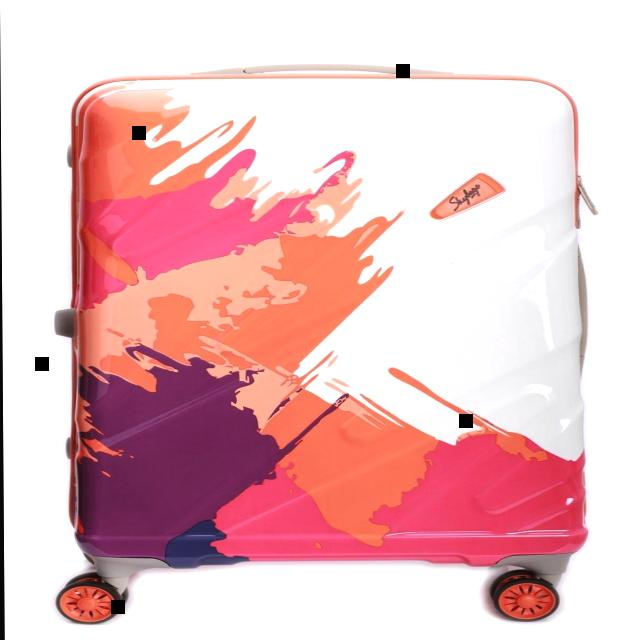luggage: (44, 57, 611, 584)
